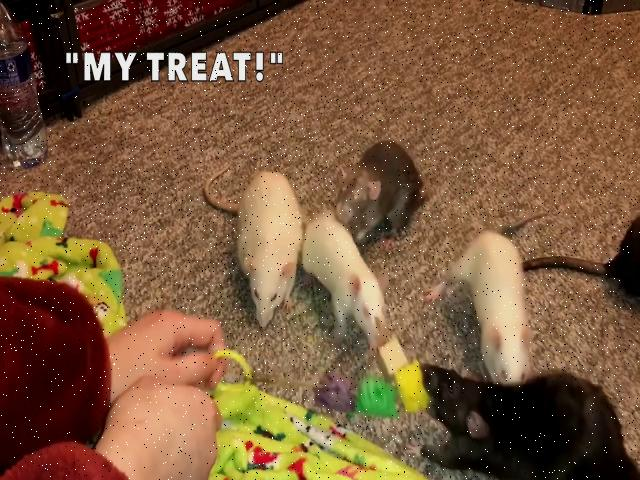Tikus: (418, 356, 626, 480), (453, 218, 533, 384), (298, 214, 386, 347), (234, 168, 298, 326), (337, 138, 427, 236)
